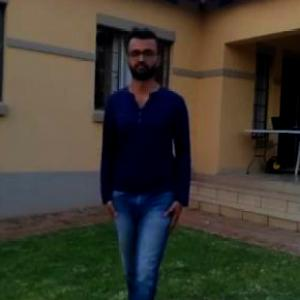follow: (99, 28, 194, 299)
